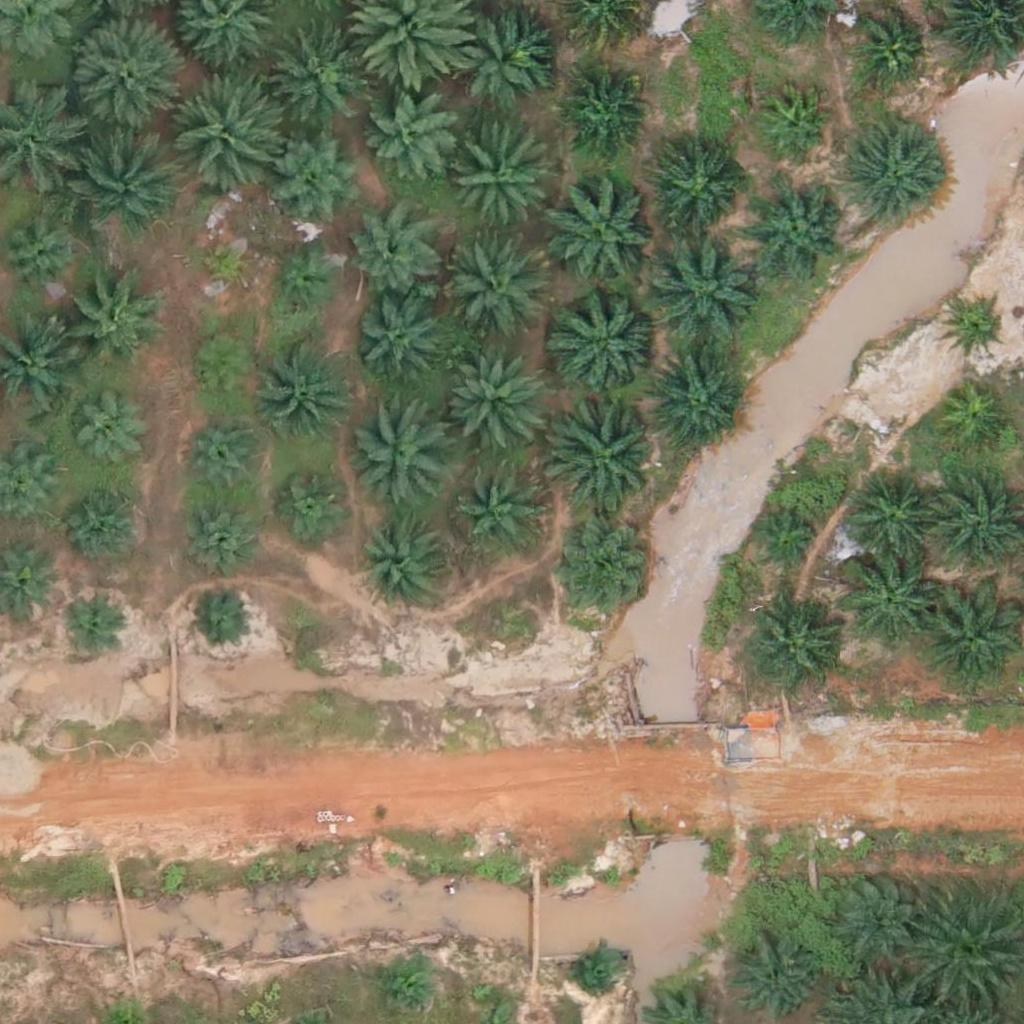Kelapa_Sawit: (645, 230, 758, 343), (546, 174, 659, 287), (550, 285, 663, 398), (66, 18, 179, 131), (66, 120, 178, 234), (549, 397, 661, 510), (167, 75, 279, 188), (824, 865, 924, 966), (842, 470, 942, 571), (644, 351, 744, 452), (744, 596, 844, 697), (552, 524, 652, 625), (449, 131, 549, 232), (444, 243, 544, 344), (440, 351, 540, 452), (266, 23, 366, 124), (268, 124, 368, 225), (60, 272, 160, 373), (259, 338, 359, 439), (844, 128, 944, 228), (837, 550, 937, 650), (750, 181, 850, 281), (448, 1, 548, 101), (351, 403, 451, 503), (655, 148, 743, 236), (348, 211, 436, 299), (173, 494, 261, 582), (351, 298, 438, 387), (558, 67, 645, 155), (458, 469, 545, 557), (360, 518, 447, 606), (366, 91, 453, 179), (183, 413, 270, 501), (66, 396, 141, 472), (68, 484, 143, 560), (267, 244, 342, 320), (756, 84, 831, 160), (186, 331, 261, 407), (274, 466, 349, 541), (851, 10, 926, 85), (935, 384, 1010, 459), (750, 508, 825, 583), (944, 297, 1007, 360), (57, 592, 120, 655), (190, 588, 252, 651), (193, 232, 255, 295), (569, 942, 619, 992), (380, 959, 430, 1009)
